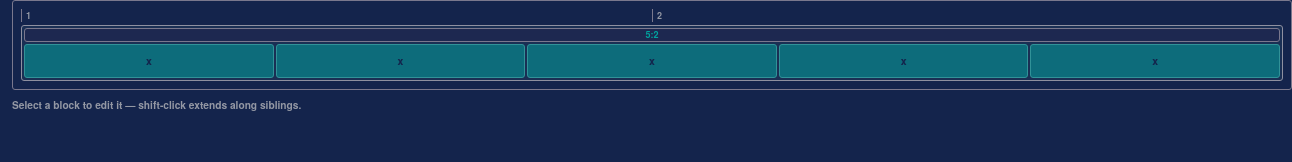
Scenario: RhythmBuilder › keeps Articulate an optional tool, never a mandatory repair
What coordinates should you click on to do the following:
click the button named "group 0: 5 in the time of 2"
I would click on:
 (652, 35)
Its box is [24,28,1280,42].
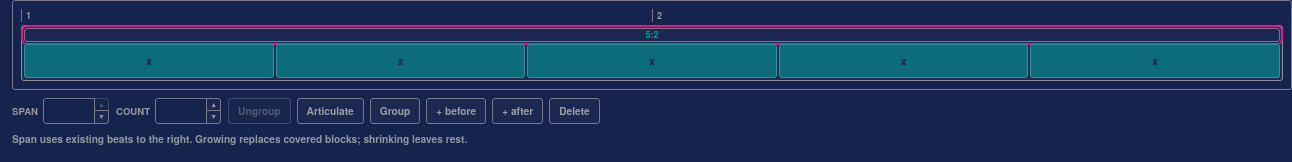
Expected: the button "Articulate" is shown, [297,98,364,124]
